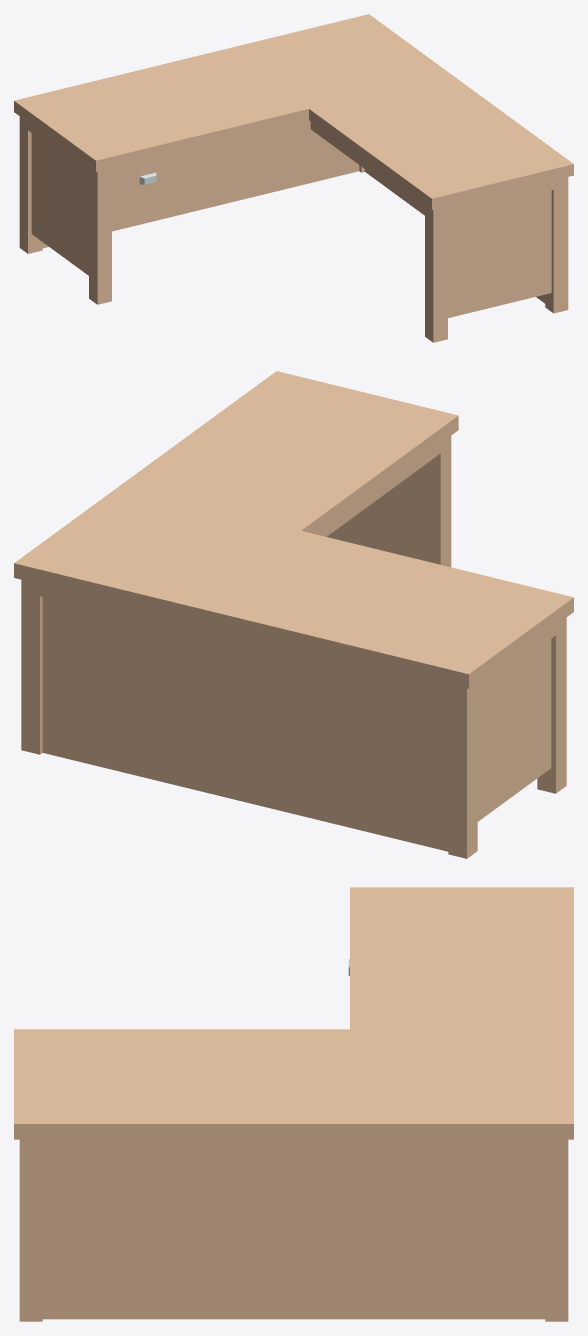
The model's file is deskCorner.optimized.glb.
The picture shows the model from 3 angles, top to bottom: view 1: azimuth 30°, elevation 25°; view 2: azimuth 150°, elevation 25°; view 3: azimuth 270°, elevation 25°; orthographic projection. The views are drawn at different scales.
Visible parts, largest first — view 1: deskCorner(Clone); view 2: deskCorner(Clone); view 3: deskCorner(Clone).
Boxes of the visible parts, x1,y1,x2,y2 form: deskCorner(Clone): (14,14,573,342); deskCorner(Clone): (14,371,573,858); deskCorner(Clone): (14,887,573,1321).
Size of the model in its own units: 0.9745 by 0.3844 by 0.9745.
